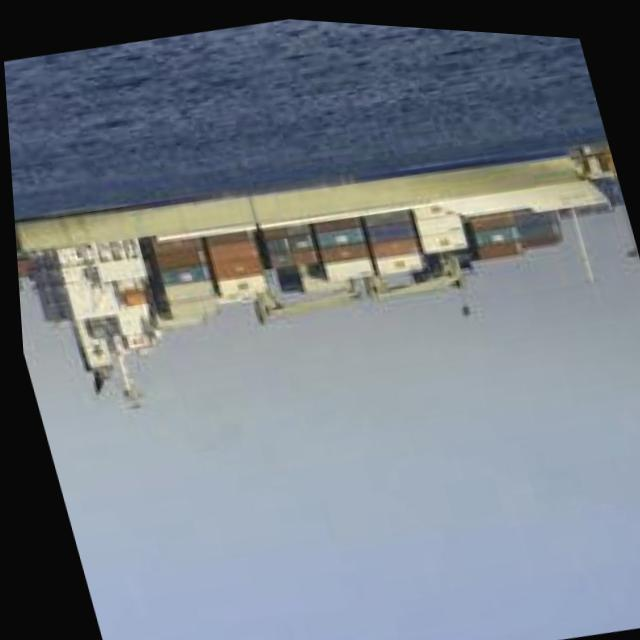ship2: (12, 145, 615, 408)
